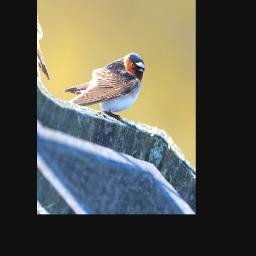Swallow: (60, 18, 150, 144)
